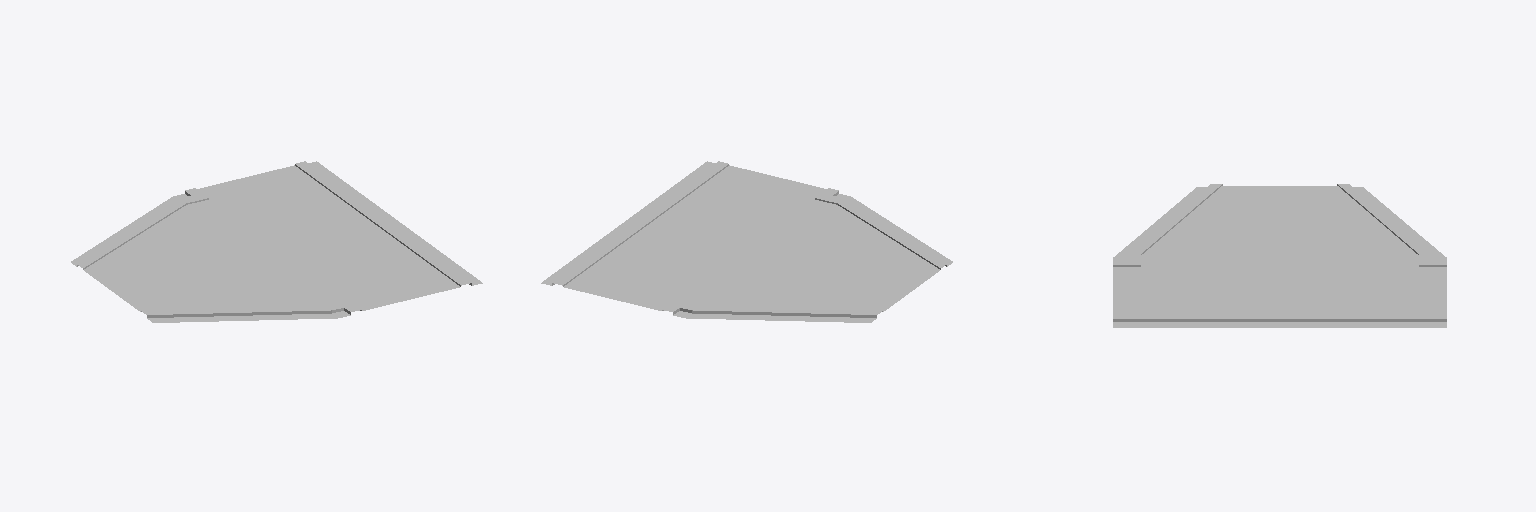
File: roadSide.obj
The picture shows the model from 3 angles: view 1: azimuth 30°, elevation 25°; view 2: azimuth 150°, elevation 25°; view 3: azimuth 270°, elevation 25°; orthographic projection.
Visible parts, largest first — view 1: roadSide; view 2: roadSide; view 3: roadSide.
Part boxes in pixels (x1,y1,x2,y2): roadSide: (71,161,482,322); roadSide: (541,161,952,322); roadSide: (1113,184,1446,327).
Size of the model in its own units: 2 by 0.02 by 2.